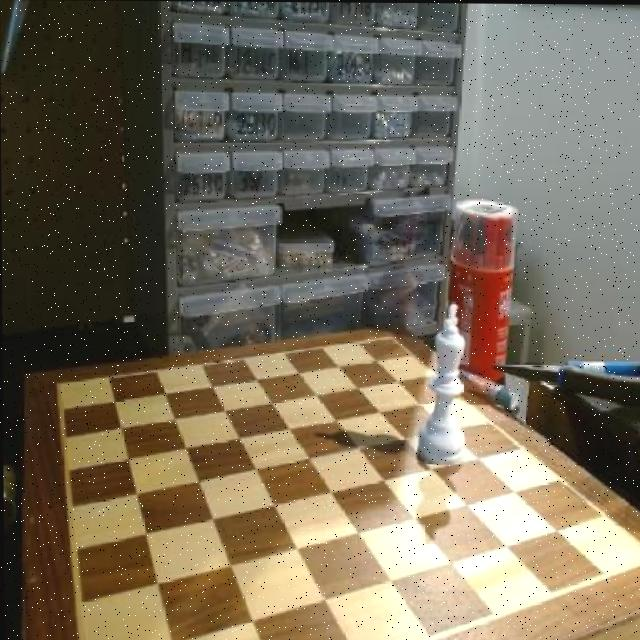white-bishop: (414, 298, 475, 471)
